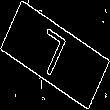L_SW: (34, 25, 76, 85)
